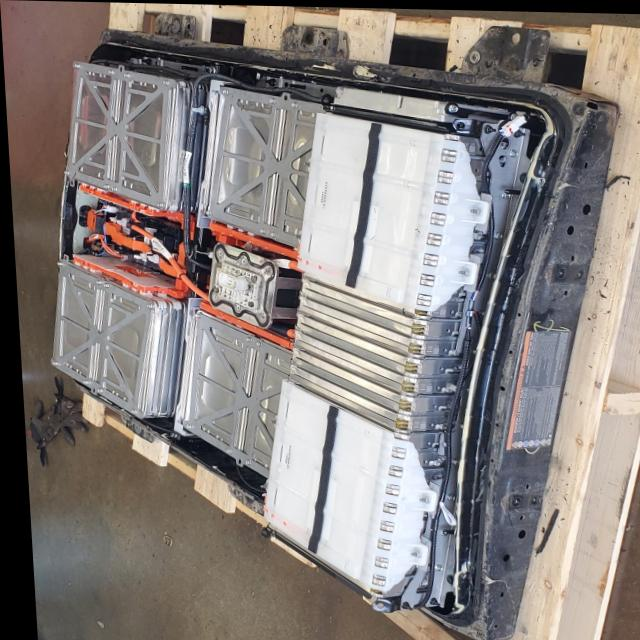Battery Module: (256, 388, 390, 573), (302, 116, 433, 296), (182, 324, 280, 452), (54, 281, 150, 400)
Bolt: (209, 103, 306, 228), (75, 75, 163, 192), (487, 219, 510, 244), (85, 277, 113, 291), (505, 142, 525, 160), (440, 486, 457, 503), (237, 335, 266, 344), (424, 560, 444, 573), (197, 206, 217, 219), (214, 83, 230, 98), (231, 457, 250, 469), (138, 298, 157, 309), (49, 259, 65, 272), (69, 61, 87, 72), (496, 185, 508, 200), (119, 405, 139, 414), (263, 94, 278, 106), (285, 98, 300, 110), (150, 197, 163, 210), (119, 69, 133, 81), (91, 384, 106, 395), (161, 73, 173, 86), (45, 359, 59, 370), (266, 226, 280, 237), (73, 378, 90, 387), (177, 419, 192, 429), (255, 222, 267, 234), (101, 67, 115, 76), (108, 183, 119, 194), (97, 180, 108, 191), (215, 446, 232, 453), (62, 167, 71, 177)
Nut: (388, 595, 413, 613), (401, 538, 420, 561), (450, 264, 477, 277), (465, 200, 484, 218), (435, 521, 455, 537), (408, 490, 429, 505), (421, 589, 436, 609), (479, 121, 497, 137)
